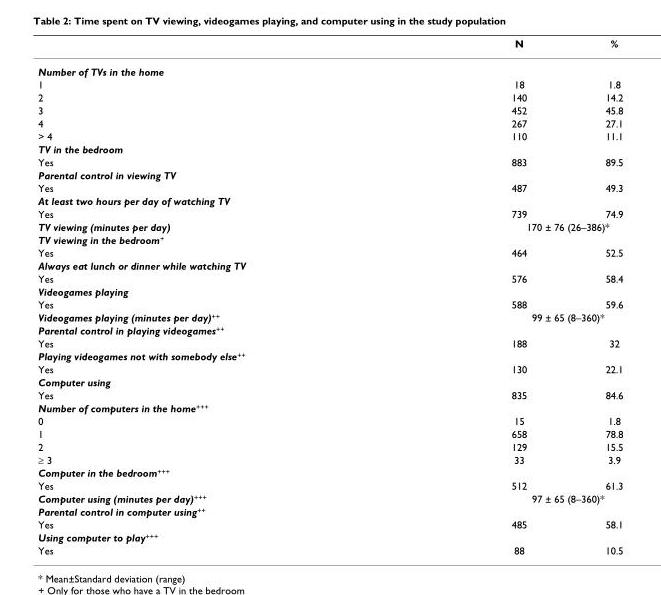table: (37, 36, 622, 555)
table column: (37, 36, 377, 555), (377, 36, 565, 555), (565, 36, 622, 555)
table column header: (37, 36, 622, 57)
table projected row header: (37, 57, 622, 77), (37, 142, 622, 155), (37, 168, 622, 181), (37, 232, 622, 245), (37, 258, 622, 271), (37, 284, 622, 297), (37, 323, 622, 336), (37, 349, 622, 362), (37, 375, 622, 388), (37, 401, 622, 414), (37, 465, 622, 478), (37, 504, 622, 517), (37, 530, 622, 543), (37, 194, 622, 206)
table row: (37, 36, 622, 57), (37, 57, 622, 77), (37, 77, 622, 90), (37, 90, 622, 103), (37, 103, 622, 116), (37, 116, 622, 129), (37, 129, 622, 142), (37, 142, 622, 155), (37, 155, 622, 168), (37, 168, 622, 181), (37, 181, 622, 194), (37, 206, 622, 219), (37, 219, 622, 232), (37, 232, 622, 245), (37, 245, 622, 258), (37, 258, 622, 271), (37, 271, 622, 284), (37, 284, 622, 297), (37, 297, 622, 310), (37, 310, 622, 323), (37, 323, 622, 336), (37, 336, 622, 349), (37, 349, 622, 362), (37, 362, 622, 375), (37, 375, 622, 388), (37, 388, 622, 401), (37, 401, 622, 414), (37, 426, 622, 439), (37, 439, 622, 452), (37, 452, 622, 465), (37, 465, 622, 478), (37, 478, 622, 491), (37, 491, 622, 504), (37, 504, 622, 517), (37, 517, 622, 530), (37, 530, 622, 543), (37, 194, 622, 206), (37, 414, 622, 426), (37, 543, 622, 555)
table spanning cell: (377, 219, 622, 232), (377, 310, 622, 323), (377, 491, 622, 504)
